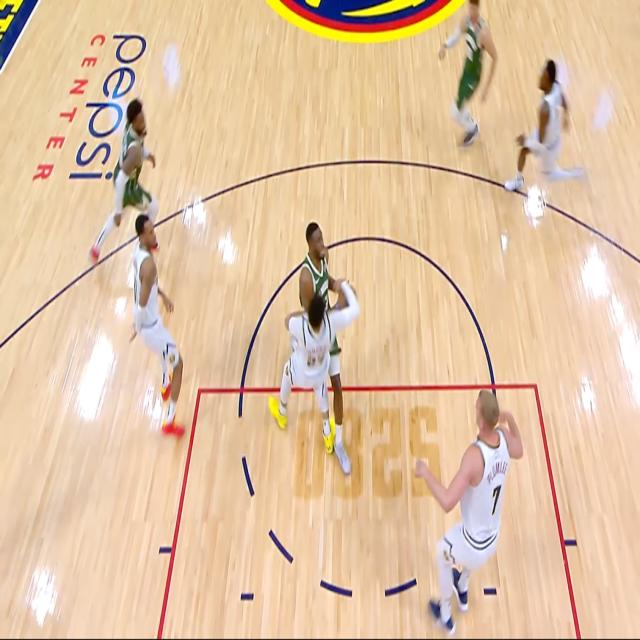Foul: (284, 229, 345, 406)
